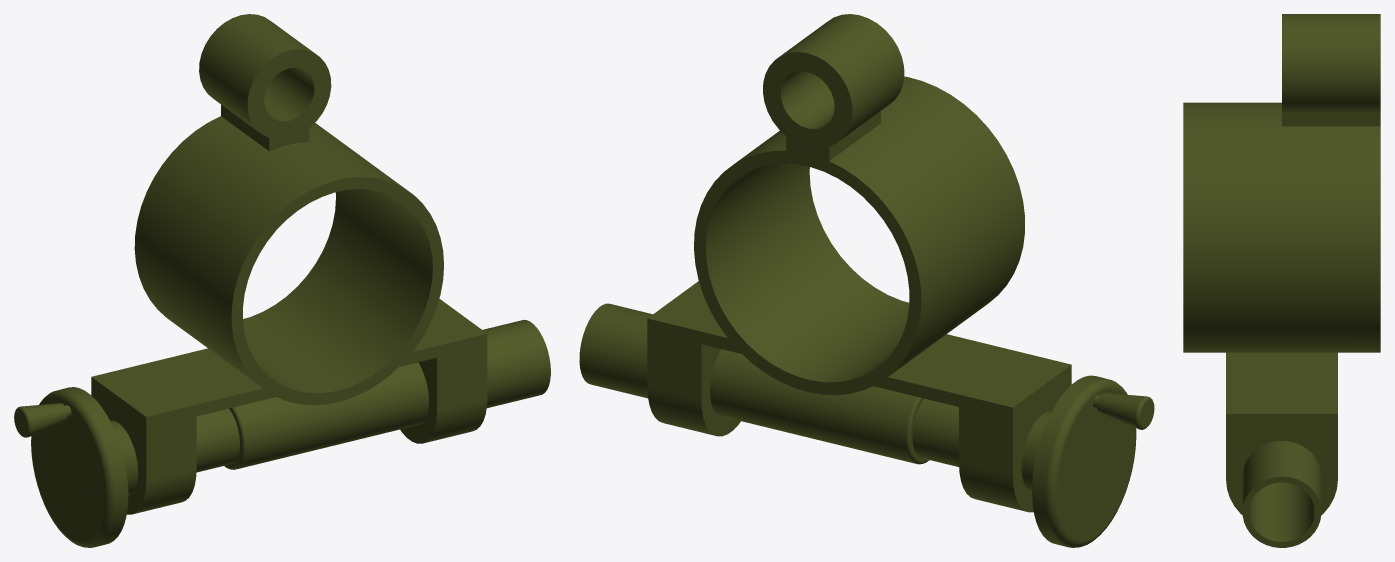
Rendered from CoCauHuong.glb.
The picture shows the model from 3 angles, left to right: view 1: azimuth 30°, elevation 25°; view 2: azimuth 150°, elevation 25°; view 3: azimuth 270°, elevation 25°; orthographic projection. The views are drawn at different scales.
Visible parts, largest first — view 1: CoCauHuong; view 2: CoCauHuong; view 3: CoCauHuong.
Boxes of the visible parts, left/top/right/bottom form: CoCauHuong: left=14, top=14, right=550, bottom=547; CoCauHuong: left=579, top=14, right=1154, bottom=547; CoCauHuong: left=1183, top=14, right=1380, bottom=547.
Bounding box in the file's own units: 183 × 150 × 60.
